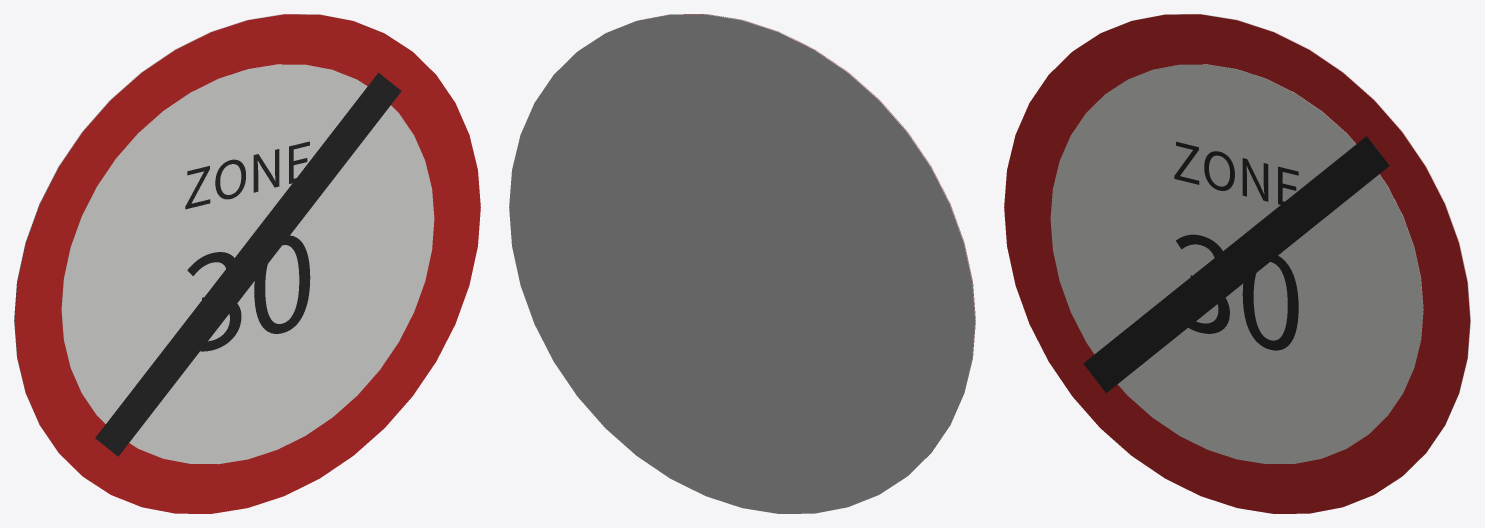
3 views of the same model, side by side, from view 1: azimuth 30°, elevation 25°; view 2: azimuth 150°, elevation 25°; view 3: azimuth 330°, elevation 25° (orthographic).
Parts seen in each view (by area): view 1: B51_int01, B51_ext00, B51_barre04, B51_txt03, B51_txt02, B51_dos; view 2: B51_dos; view 3: B51_int01, B51_ext00, B51_barre04, B51_txt03, B51_txt02, B51_dos.
Boxes of the visible parts, box(x1,y1,x2,y2) form: B51_int01: box(61, 64, 434, 464); B51_ext00: box(14, 14, 480, 513); B51_barre04: box(95, 72, 401, 456); B51_txt03: box(187, 235, 310, 351); B51_txt02: box(185, 141, 309, 209); B51_dos: box(14, 14, 383, 475); B51_dos: box(509, 14, 975, 513); B51_int01: box(1050, 64, 1423, 464); B51_ext00: box(1004, 14, 1470, 513); B51_barre04: box(1083, 136, 1389, 392); B51_txt03: box(1176, 234, 1298, 350); B51_txt02: box(1174, 141, 1298, 204); B51_dos: box(1101, 14, 1470, 475).
Bounding box in the file's own units: 0.65 × 0.65 × 0.0033.
